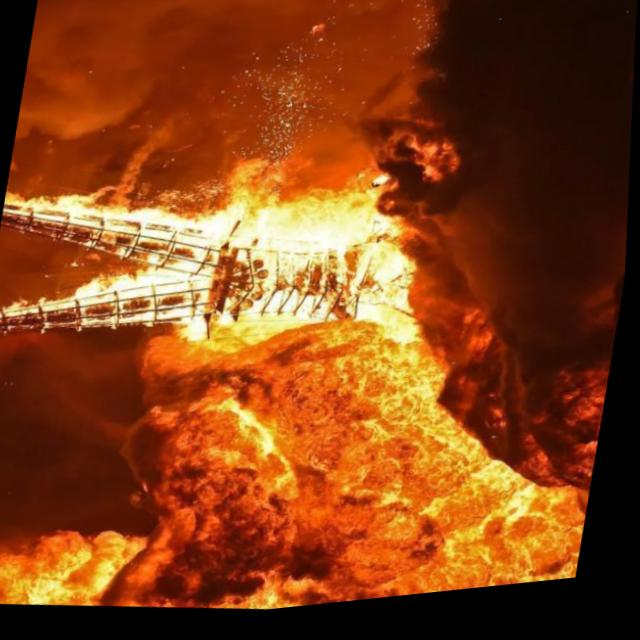Fire: (0, 268, 608, 640), (0, 130, 447, 445)
